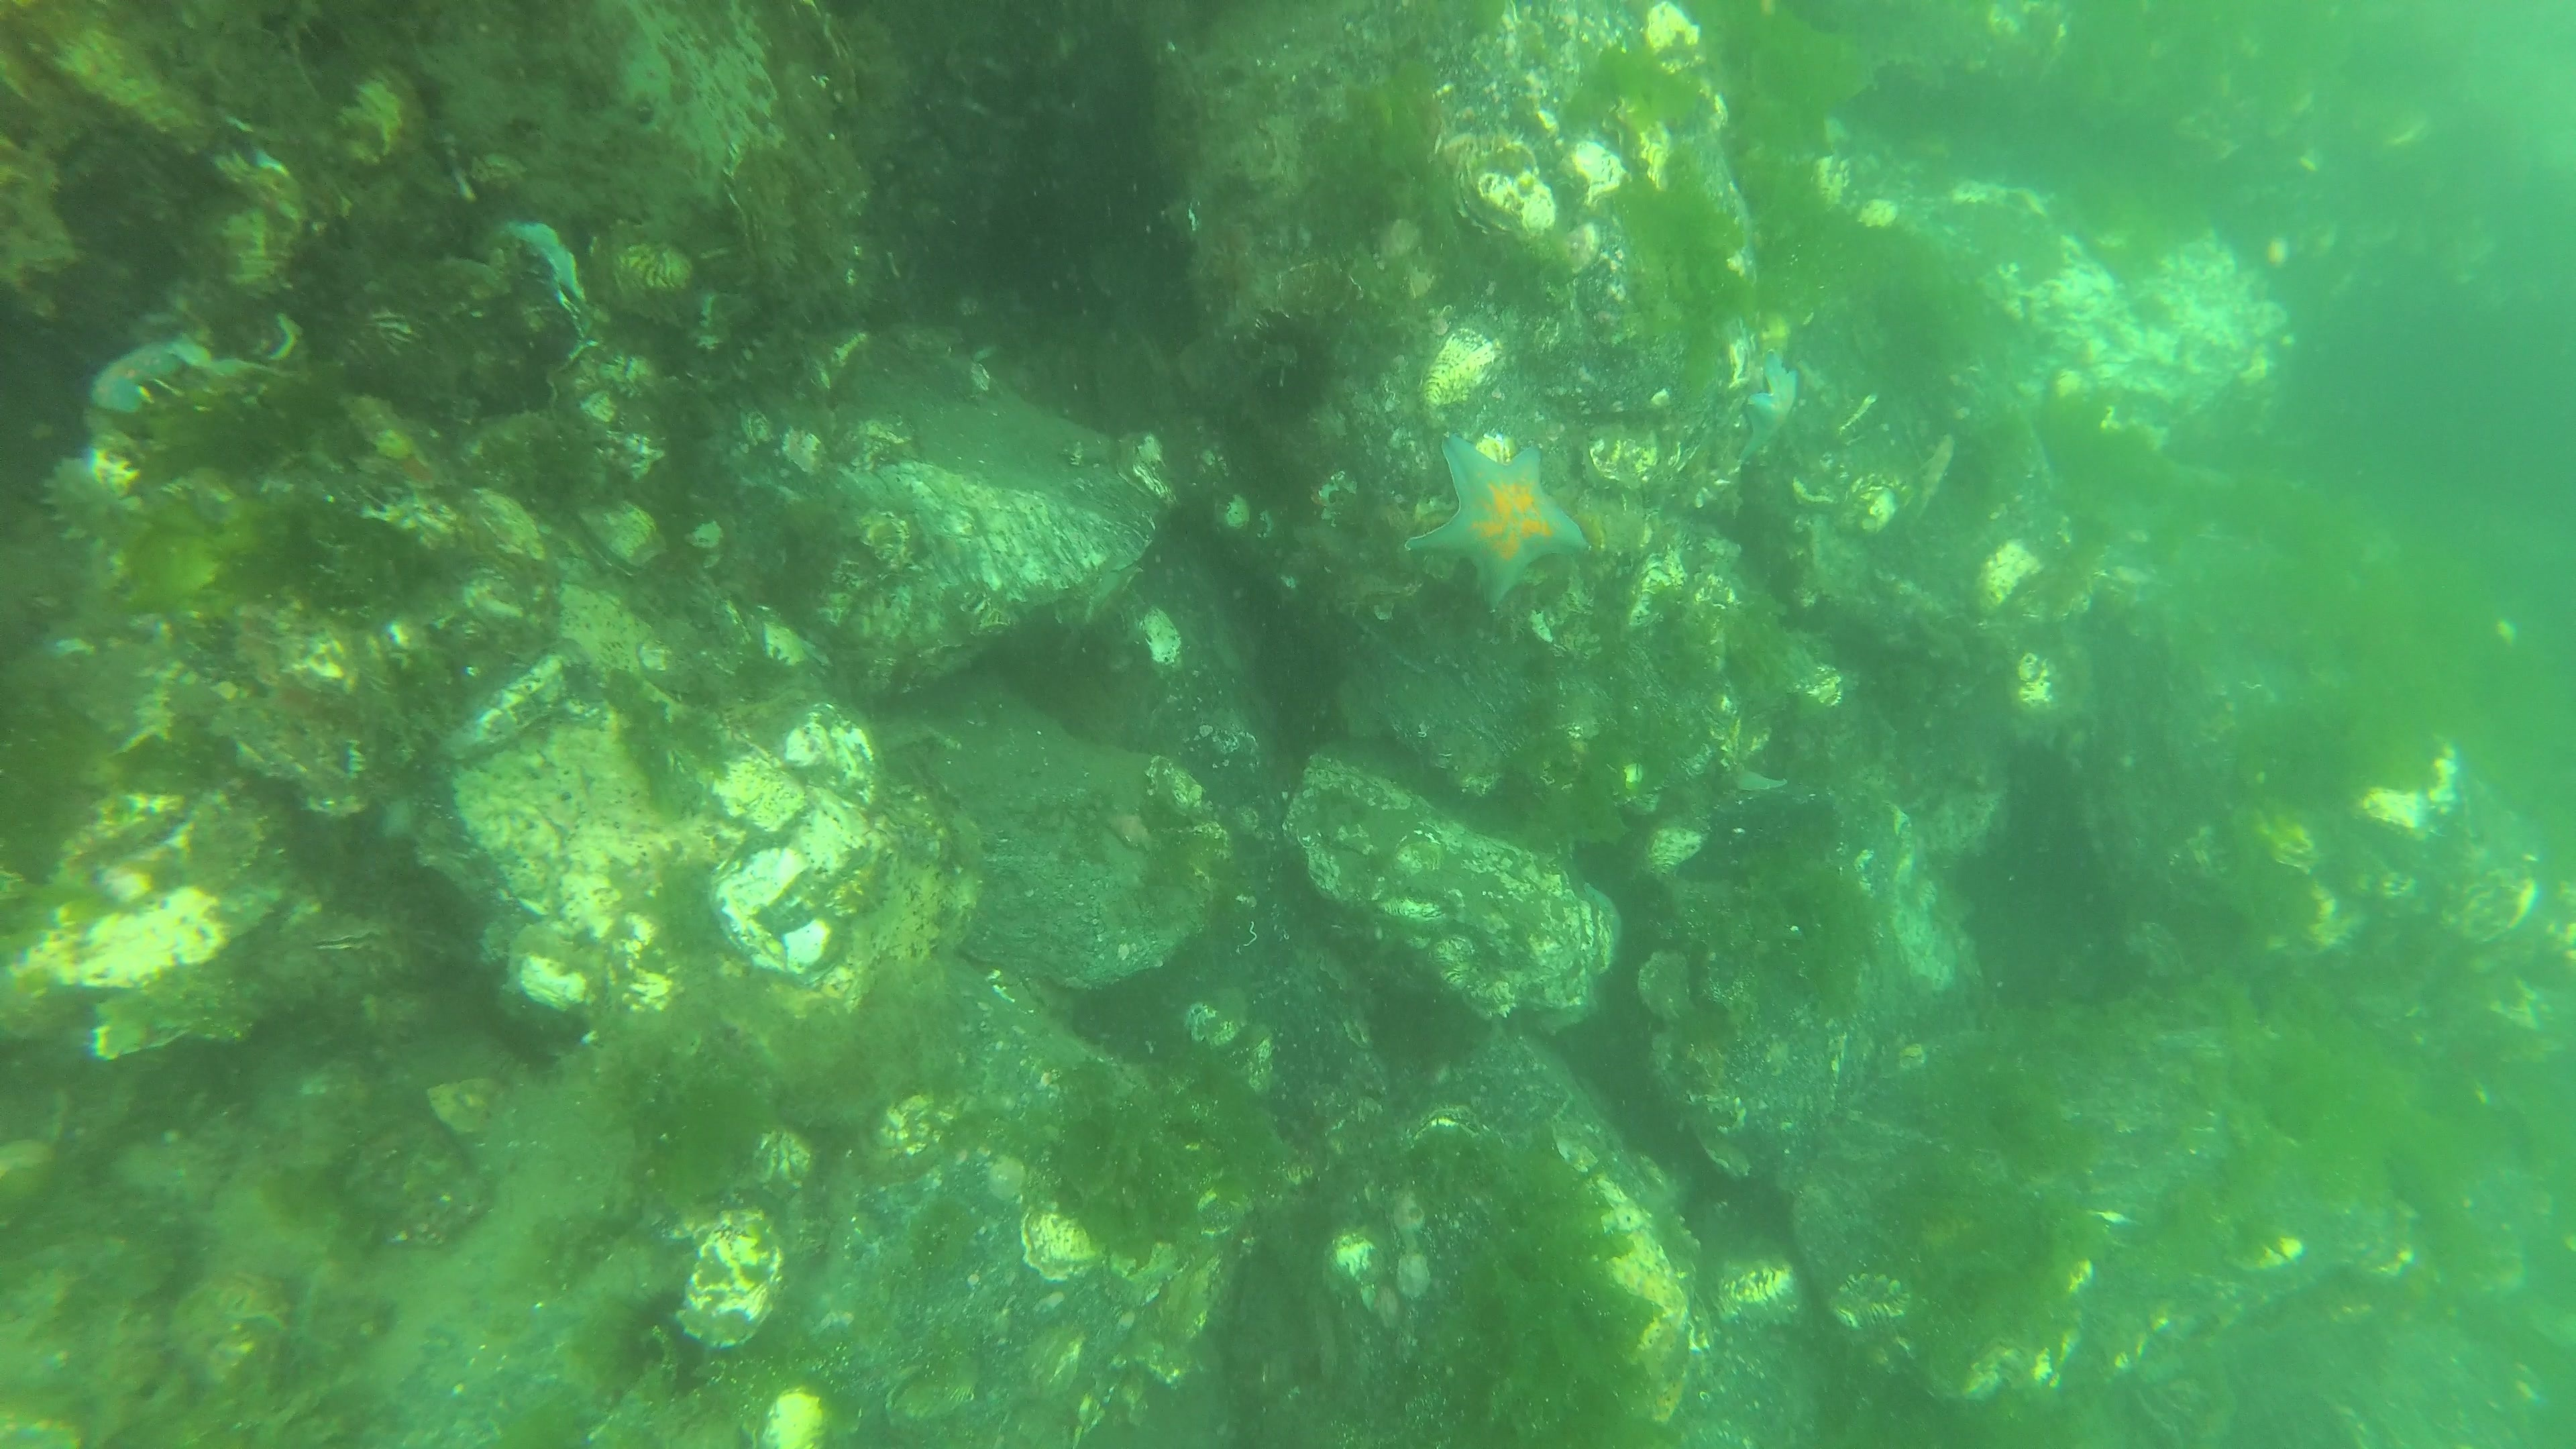echinus: (1254, 311, 1334, 410)
holothurian: (32, 448, 161, 561)
starfish: (1407, 430, 1589, 616), (488, 216, 600, 317), (88, 341, 186, 416), (1743, 352, 1801, 460)
